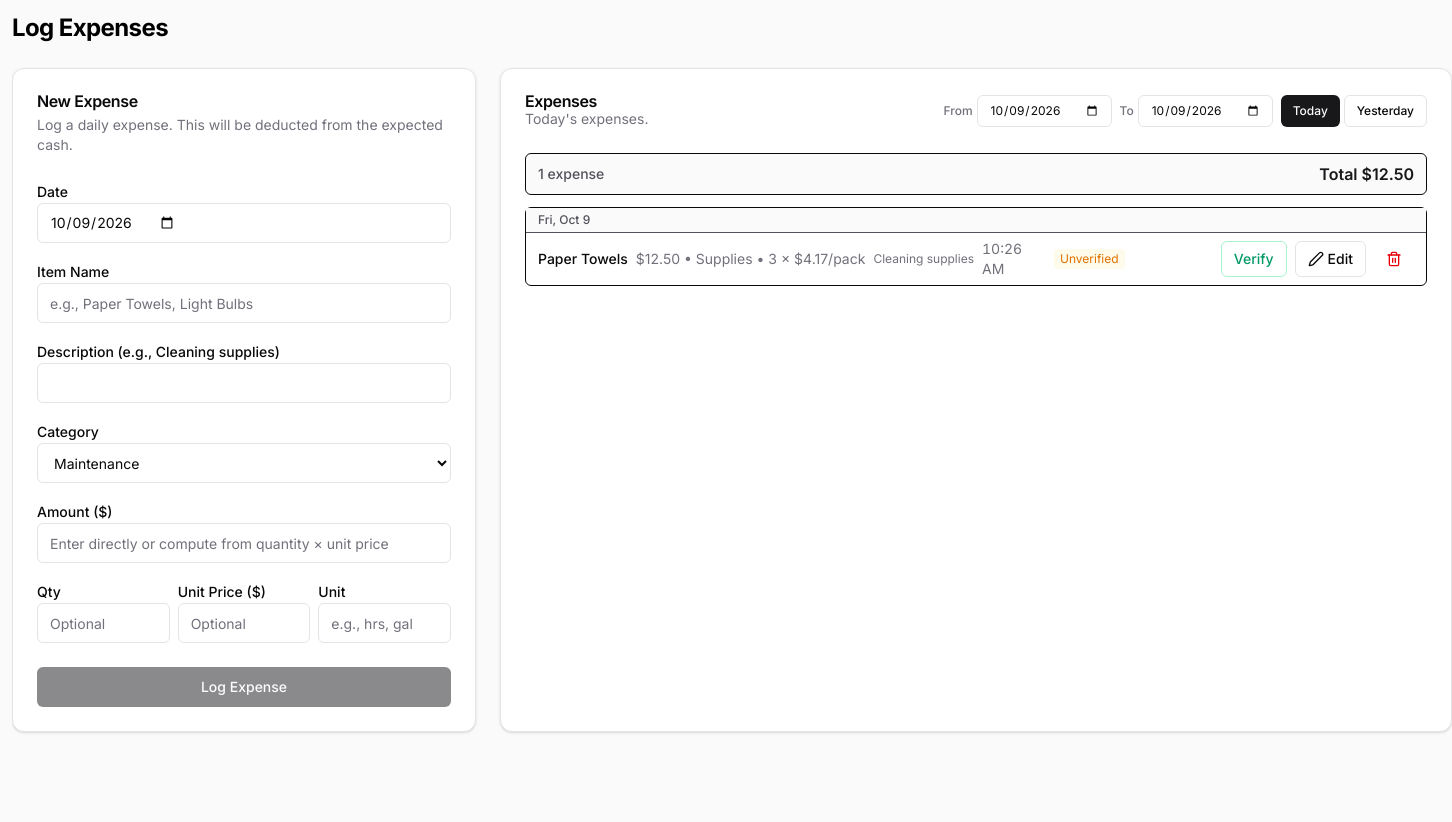
Test: Expenses › populates unit fields when editing an expense with unit data
The width and height of the screenshot is (1452, 822).
Expected: the text "Cleaning supplies" is shown, x1=873 y1=251 x2=974 y2=267
Click the button "Edit" at [1330, 259], box x1=1295 y1=241 x2=1366 y2=277
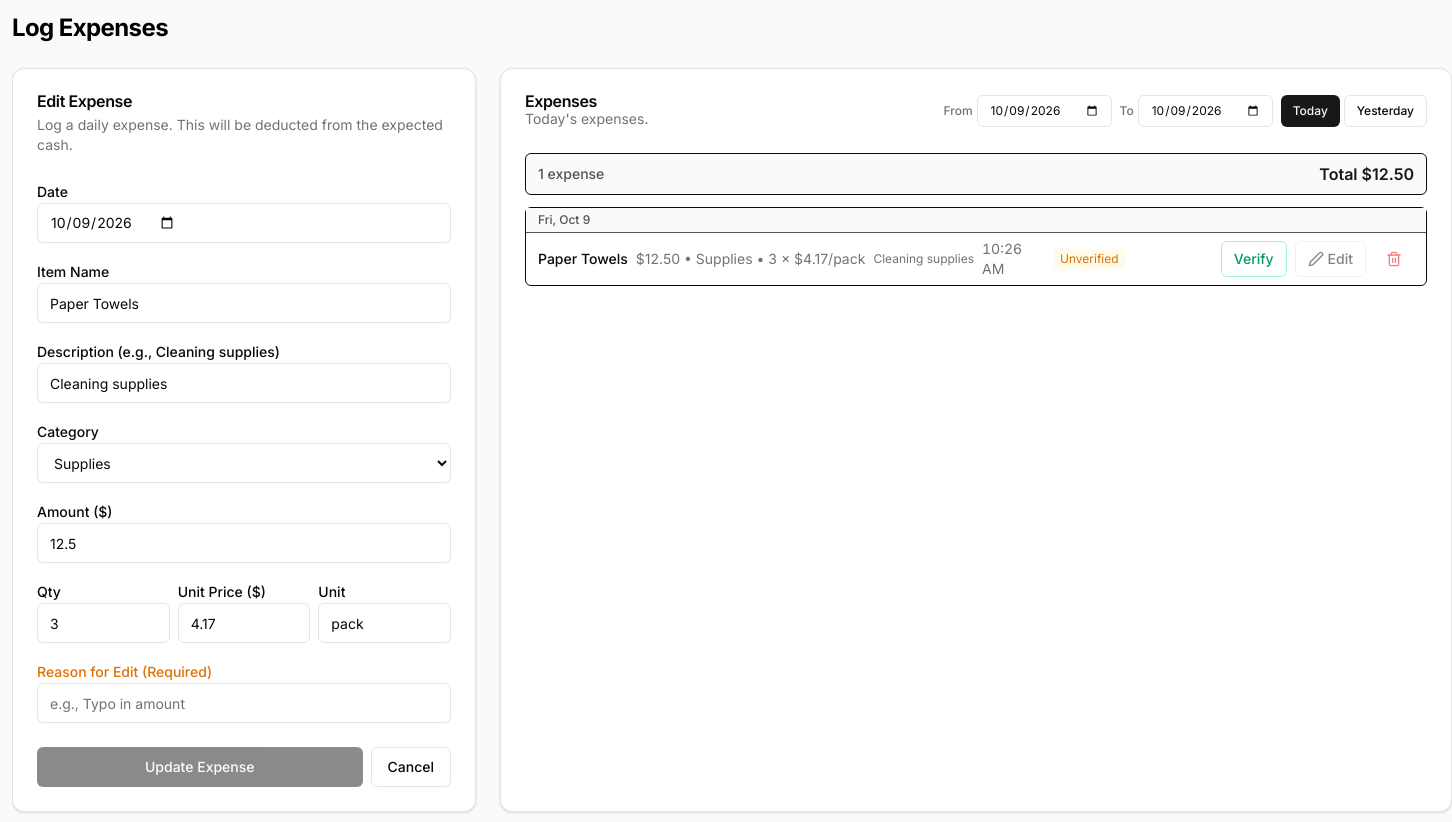
Expected: the field labelled "Item Name" holds "Paper Towels", x1=37 y1=283 x2=451 y2=323
Expected: the number field labelled "Qty" holds "3", x1=37 y1=603 x2=170 y2=643
Expected: the number field labelled "Unit Price ($)" holds "4.17", x1=178 y1=603 x2=310 y2=643
